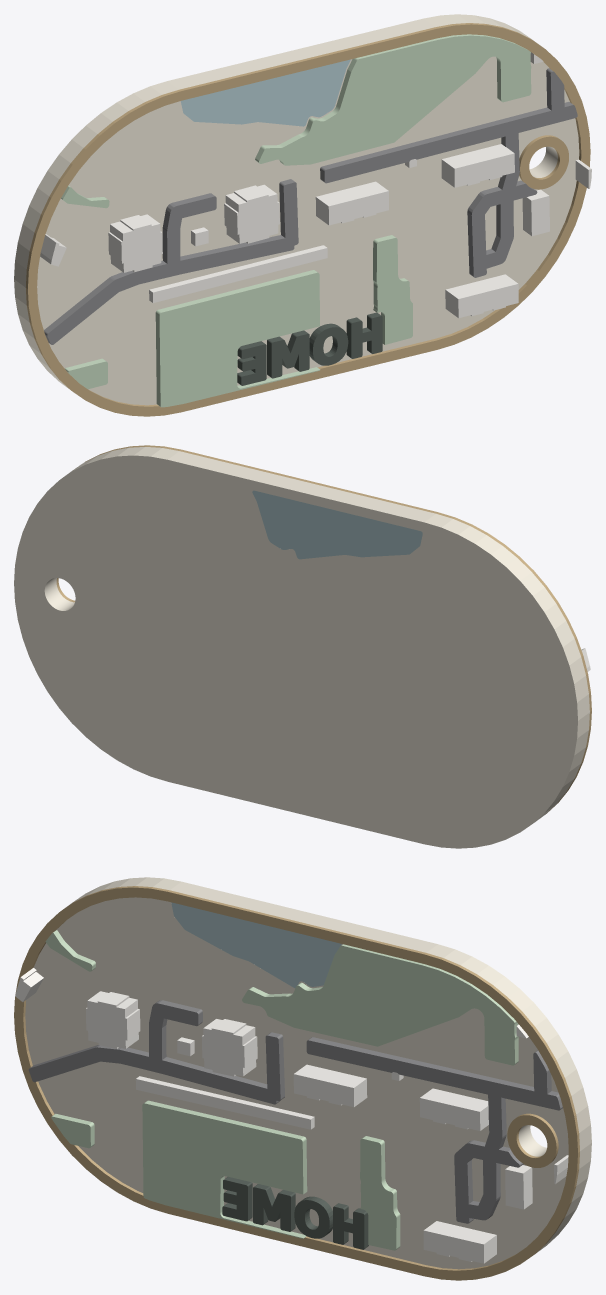
The model's file is keychain-home.glb.
3 views of the same model, one above another, from view 1: azimuth 30°, elevation 25°; view 2: azimuth 150°, elevation 25°; view 3: azimuth 330°, elevation 25° (orthographic).
Visible parts, largest first — view 1: Base, Parks, Rim, Buildings, Roads, Water, Text; view 2: Base, WaterBase, Rim; view 3: Base, Parks, Rim, Buildings, Roads, Water, Text.
Part boxes in pixels (left/top/right/bottom): Base: left=14, top=14, right=579, bottom=405; Parks: left=61, top=34, right=531, bottom=407; Rim: left=25, top=23, right=590, bottom=416; Buildings: left=40, top=52, right=591, bottom=318; Roads: left=44, top=68, right=577, bottom=344; Water: left=180, top=59, right=350, bottom=126; Text: left=237, top=312, right=382, bottom=385; Base: left=14, top=447, right=589, bottom=848; WaterBase: left=252, top=490, right=422, bottom=559; Rim: left=56, top=445, right=591, bottom=814; Base: left=25, top=877, right=591, bottom=1269; Parks: left=45, top=930, right=518, bottom=1250; Rim: left=14, top=886, right=579, bottom=1280; Buildings: left=15, top=968, right=568, bottom=1263; Roads: left=28, top=1000, right=562, bottom=1223; Water: left=171, top=902, right=341, bottom=987; Text: left=222, top=1176, right=368, bottom=1249.
Size of the model in its own units: 55 by 30 by 4.2.
